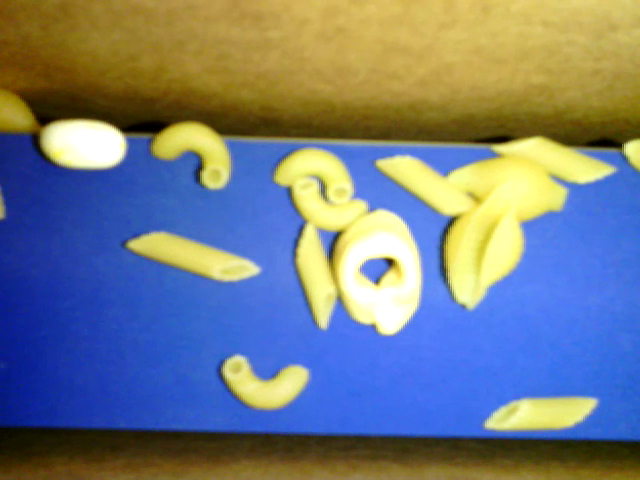elbow: (151, 120, 231, 188), (220, 353, 310, 410), (273, 146, 354, 203), (290, 175, 369, 231)
penne: (375, 151, 480, 219), (125, 232, 262, 282), (491, 137, 617, 187), (294, 221, 339, 331), (483, 397, 598, 430)
shell: (441, 186, 525, 312), (446, 154, 565, 221)
tortellini: (333, 208, 422, 336)
